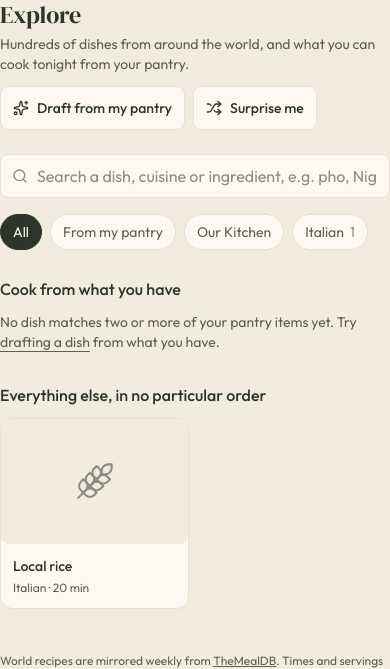
Explore page › drafts dishes from the pantry and shows why each one fits
This screenshot has width=390, height=669.
Click the button "Draft from my pantry" at (93, 108), box [0,86,185,130]
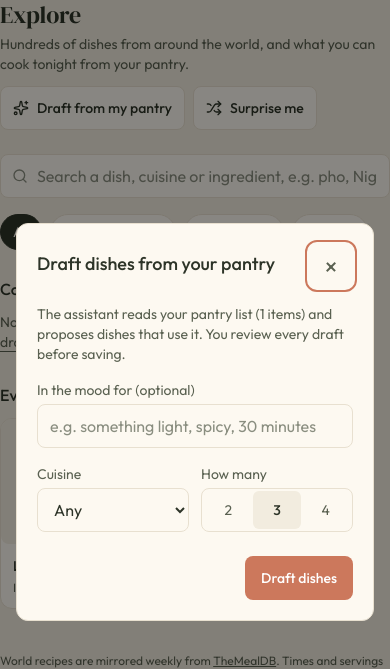
Type "quick" into the field labelled "In the mood for (optional)" at (195, 426), box [37,404,353,448]
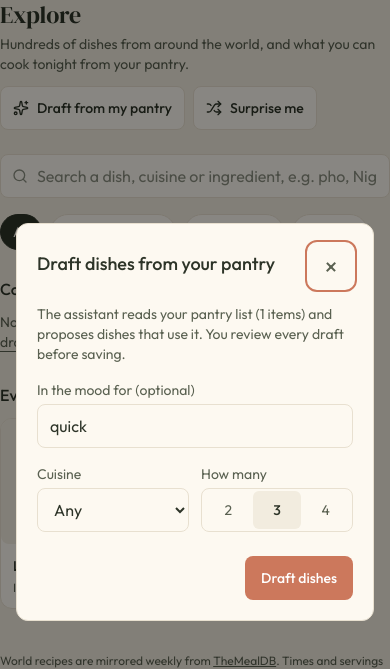
Click the button "Draft dishes" at (299, 578), box [245,556,353,600]
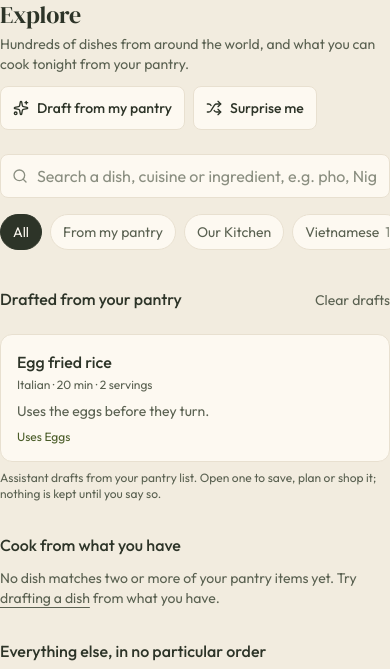
Expected: the button "Egg fried rice" shows "Uses the eggs before they turn."
Click the button "Egg fried rice" at (64, 362), box [0,334,389,462]
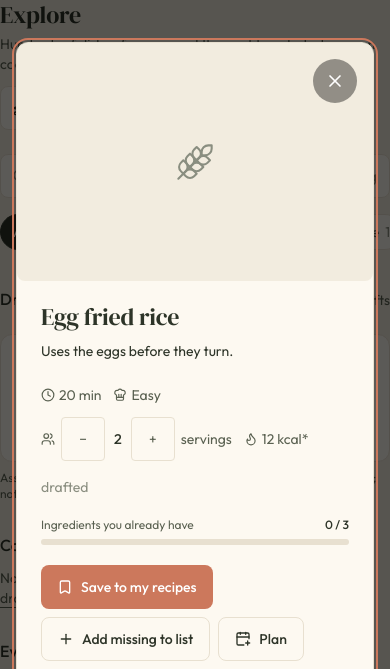
Expected: the dialog "Egg fried rice" shows "Uses the eggs before they turn.", [41,342,233,360]
